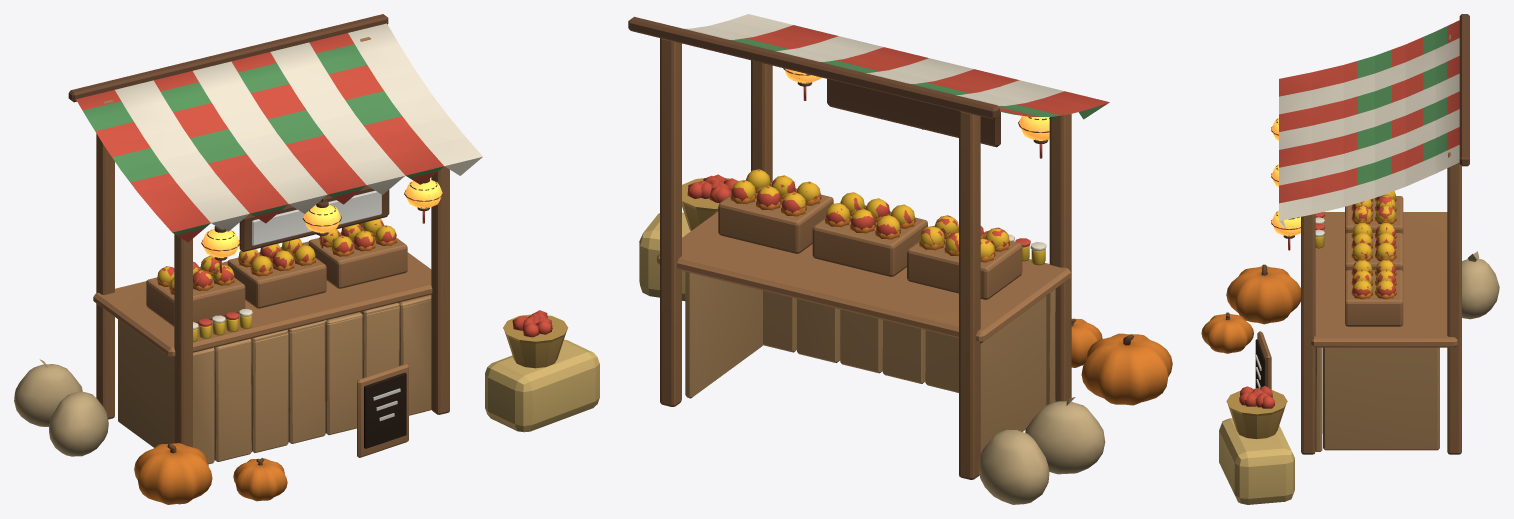
File: etal.glb
The picture shows the model from 3 angles, left to right: view 1: azimuth 30°, elevation 25°; view 2: azimuth 150°, elevation 25°; view 3: azimuth 270°, elevation 25°; orthographic projection. The views are drawn at different scales.
Visible parts, largest first — view 1: etal-rouge:bois, etal-rouge:toile-creme, etal-rouge:toile-rouge, etal-rouge:bois-clair, etal-vert:toile-verte, etal-vert:bois-clair, etal-orange:bois-clair, etal-rouge:paille, etal-rouge:jute, etal-rouge:bois-sombre, etal-rouge:citrouille, etal-rouge:ombre (+11 smaller); view 2: etal-rouge:bois, etal-orange:bois-clair, etal-rouge:bois-sombre, etal-rouge:jute, etal-rouge:bois-clair, etal-rouge:toile-creme, etal-rouge:toile-rouge, etal-rouge:citrouille, etal-vert:bois-clair, etal-orange:citrouille, etal-vert:citrouille, etal-rouge:paille (+9 smaller); view 3: etal-rouge:bois, etal-rouge:toile-creme, etal-rouge:bois-clair, etal-rouge:toile-rouge, etal-rouge:paille, etal-vert:toile-verte, etal-rouge:citrouille, etal-rouge:jute, etal-rouge:bois-sombre, etal-rouge:paille-sombre, etal-orange:citrouille, etal-vert:citrouille (+10 smaller).
Part boxes in pixels (x1,y1,x2,y2): etal-rouge:bois: (93, 37, 449, 457); etal-rouge:toile-creme: (115, 23, 482, 329); etal-rouge:toile-rouge: (76, 33, 443, 326); etal-rouge:bois-clair: (193, 300, 431, 461); etal-vert:toile-verte: (83, 44, 443, 235); etal-vert:bois-clair: (214, 294, 431, 461); etal-orange:bois-clair: (118, 303, 400, 464); etal-rouge:paille: (485, 339, 599, 432); etal-rouge:jute: (14, 359, 108, 456); etal-rouge:bois-sombre: (68, 14, 443, 465); etal-rouge:citrouille: (136, 227, 396, 503); etal-rouge:ombre: (364, 372, 406, 448); etal-rouge:bois: (657, 38, 1071, 479); etal-orange:bois-clair: (763, 290, 1046, 453); etal-rouge:bois-sombre: (628, 16, 1133, 345); etal-rouge:jute: (978, 397, 1105, 504); etal-rouge:bois-clair: (685, 271, 1055, 403); etal-rouge:toile-creme: (684, 14, 1064, 251); etal-rouge:toile-rouge: (746, 25, 1109, 247); etal-rouge:citrouille: (730, 182, 1169, 404); etal-vert:bois-clair: (797, 289, 1055, 405); etal-orange:citrouille: (919, 230, 1172, 405); etal-vert:citrouille: (825, 205, 1171, 404); etal-rouge:paille: (639, 212, 690, 300); etal-rouge:bois: (1257, 34, 1461, 454); etal-rouge:toile-creme: (1279, 38, 1459, 237); etal-rouge:bois-clair: (1315, 347, 1439, 451); etal-rouge:toile-rouge: (1279, 20, 1459, 250); etal-rouge:paille: (1219, 418, 1294, 504); etal-vert:toile-verte: (1357, 26, 1447, 184); etal-rouge:citrouille: (1203, 266, 1396, 353); etal-rouge:jute: (1462, 251, 1499, 319); etal-rouge:bois-sombre: (1226, 14, 1469, 319); etal-rouge:paille-sombre: (1226, 388, 1287, 438); etal-orange:citrouille: (1201, 197, 1396, 353); etal-vert:citrouille: (1203, 234, 1396, 352).
Size of the model in its own units: 3.44 by 2.33 by 2.04.
